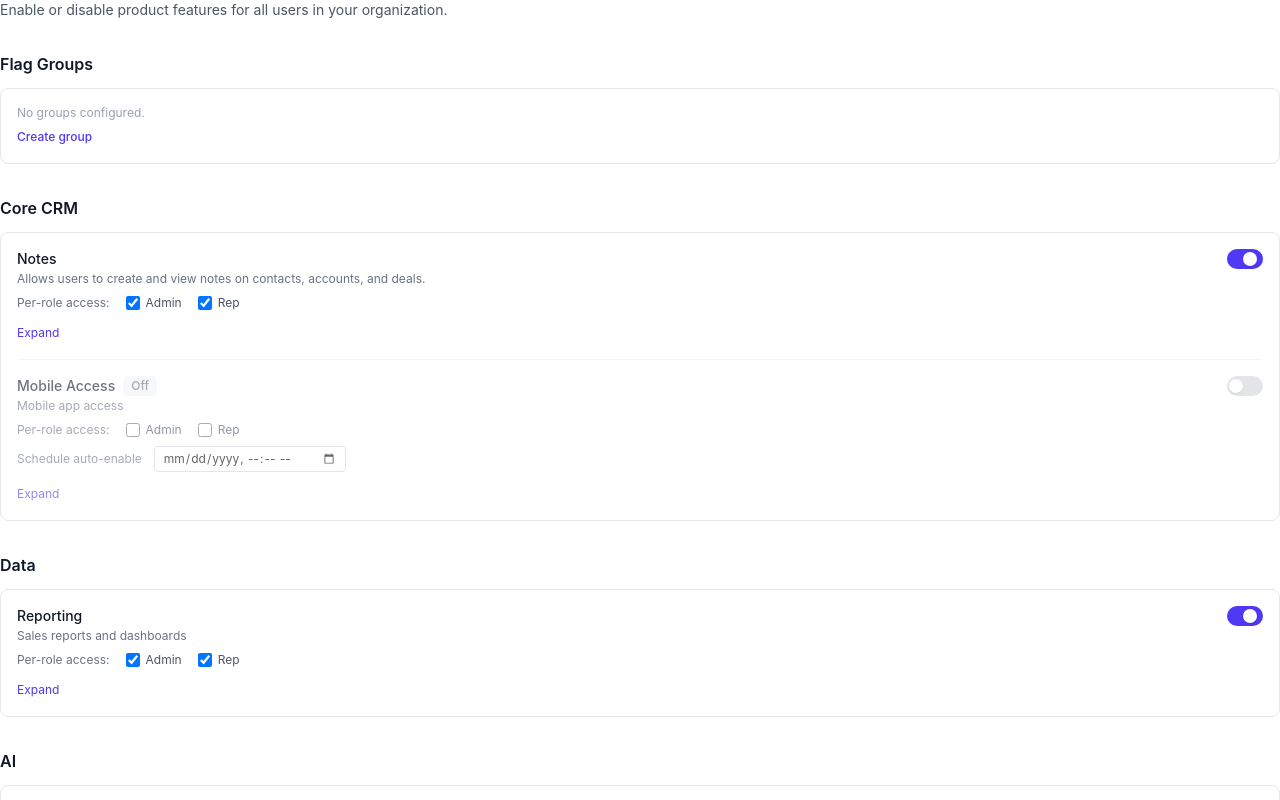
Scenario: FeatureFlagsSettings › shows active users warning in dialog when disabling a flag with active users
Note: Reporting fixture has active_user_count: 3 and is currently enabled — clicking disables it
Click the switch with test id "feature-flag-toggle-reporting" at (1245, 616), box [1227,606,1263,626]
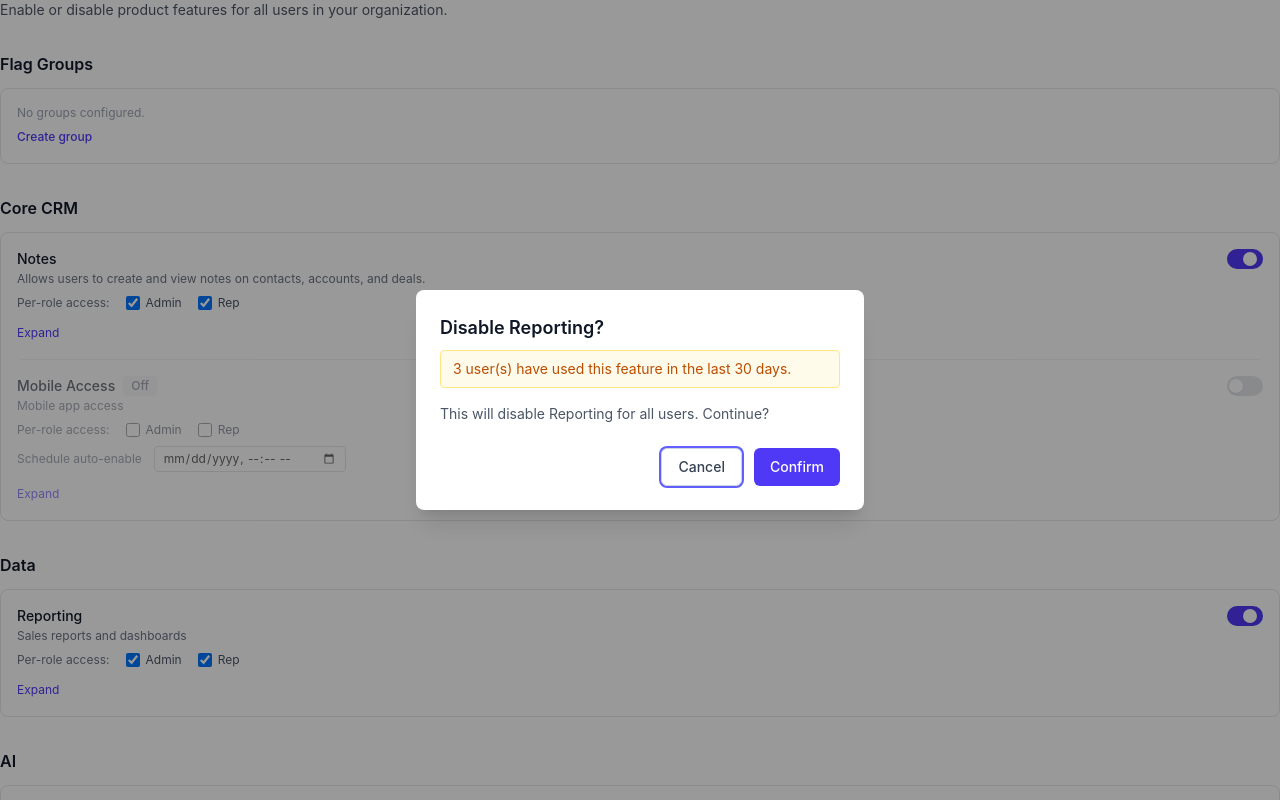
Now the dialog with test id "feature-flag-confirm-dialog" is shown
Now the text "3 user(s) have used this feature in the last 30 days." is shown, box [440,350,840,388]
